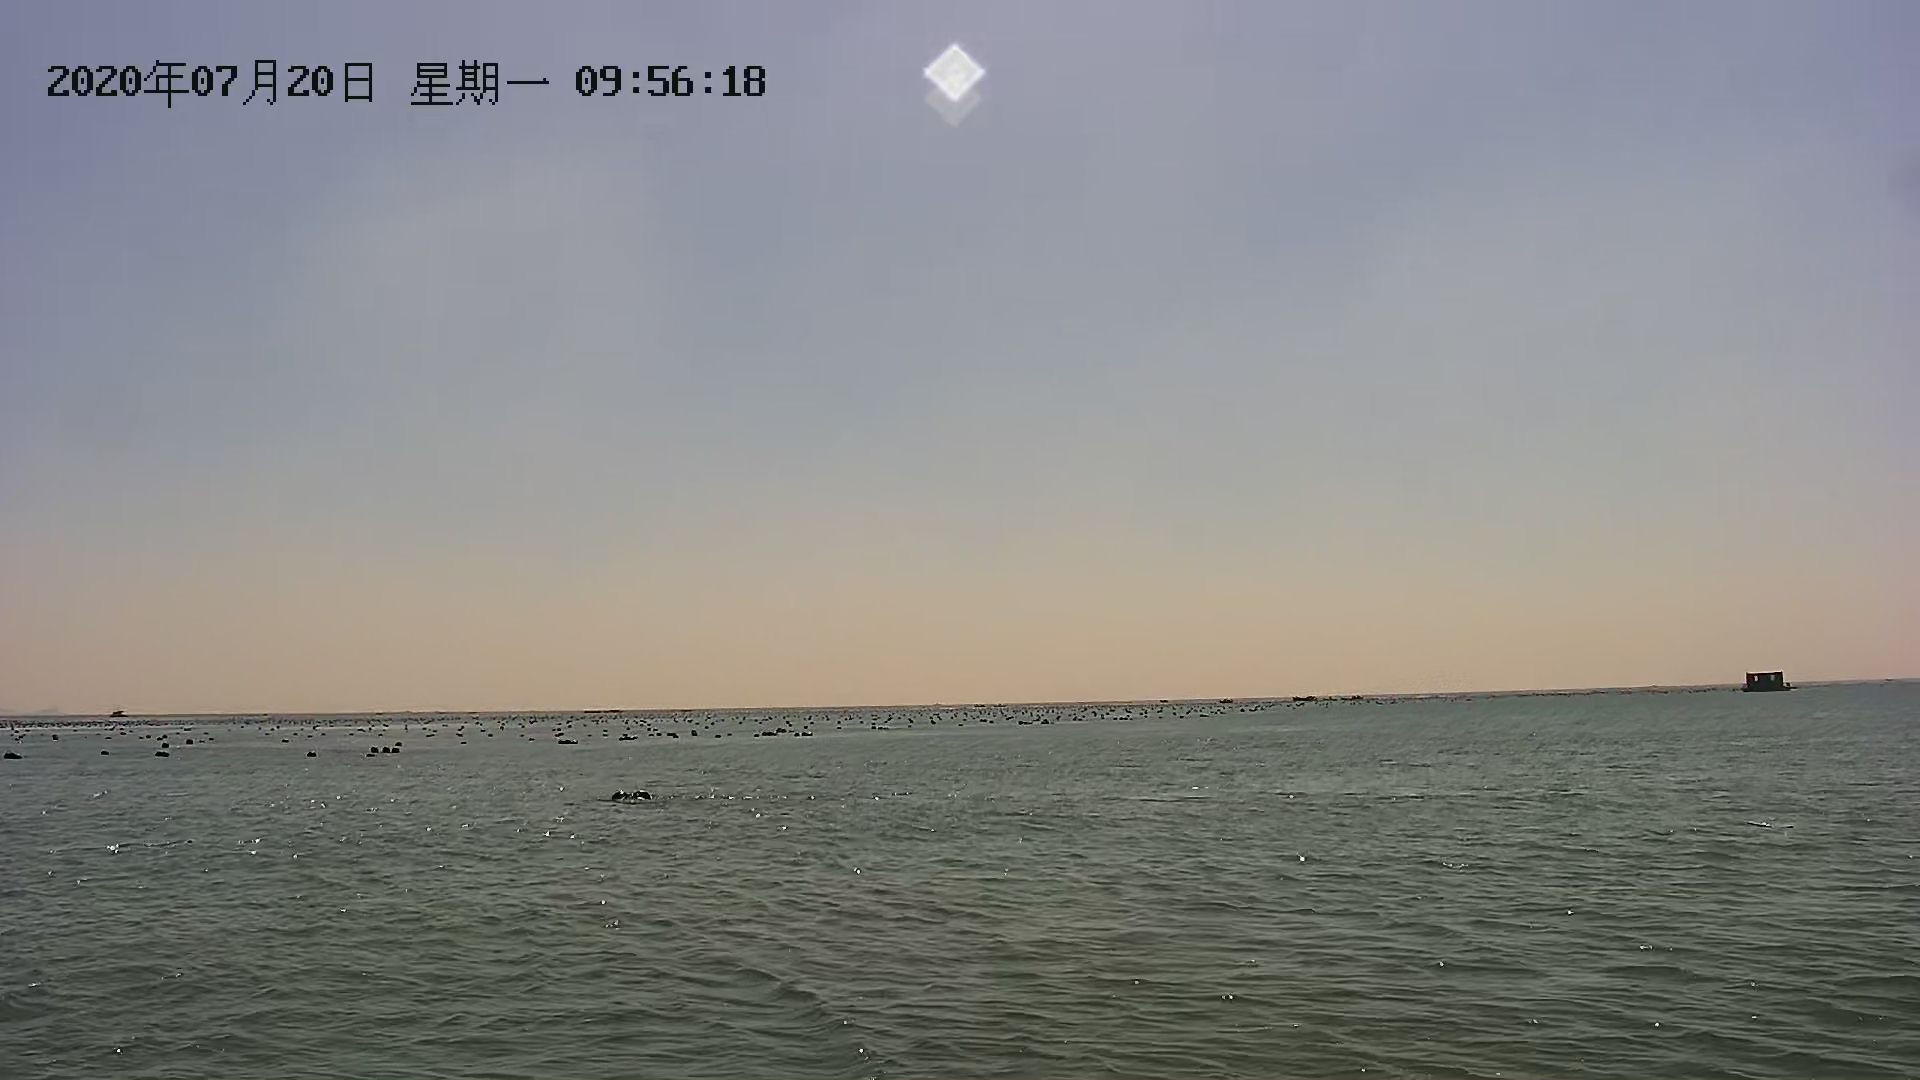ball: (605, 785, 632, 808), (632, 785, 653, 804)
platform: (1737, 673, 1799, 694)
